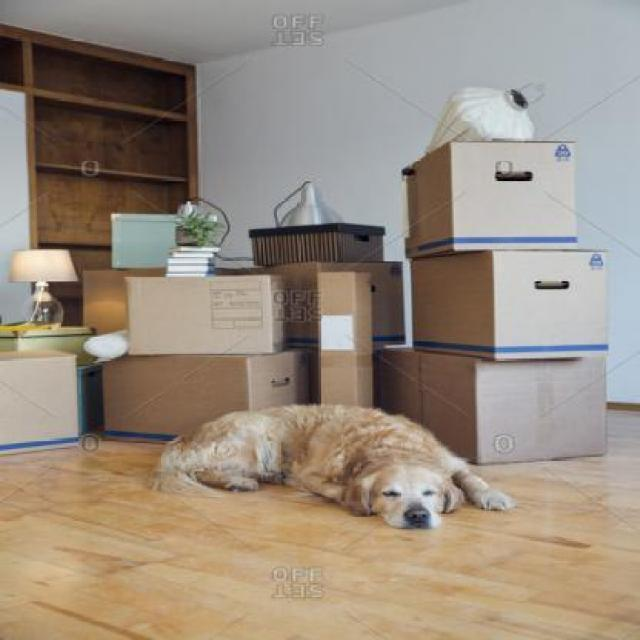box: (383, 353, 609, 470), (409, 248, 611, 360), (98, 341, 319, 442), (403, 138, 577, 255), (122, 262, 293, 354), (271, 268, 405, 352), (0, 345, 86, 464), (314, 273, 374, 404), (245, 228, 389, 264)
